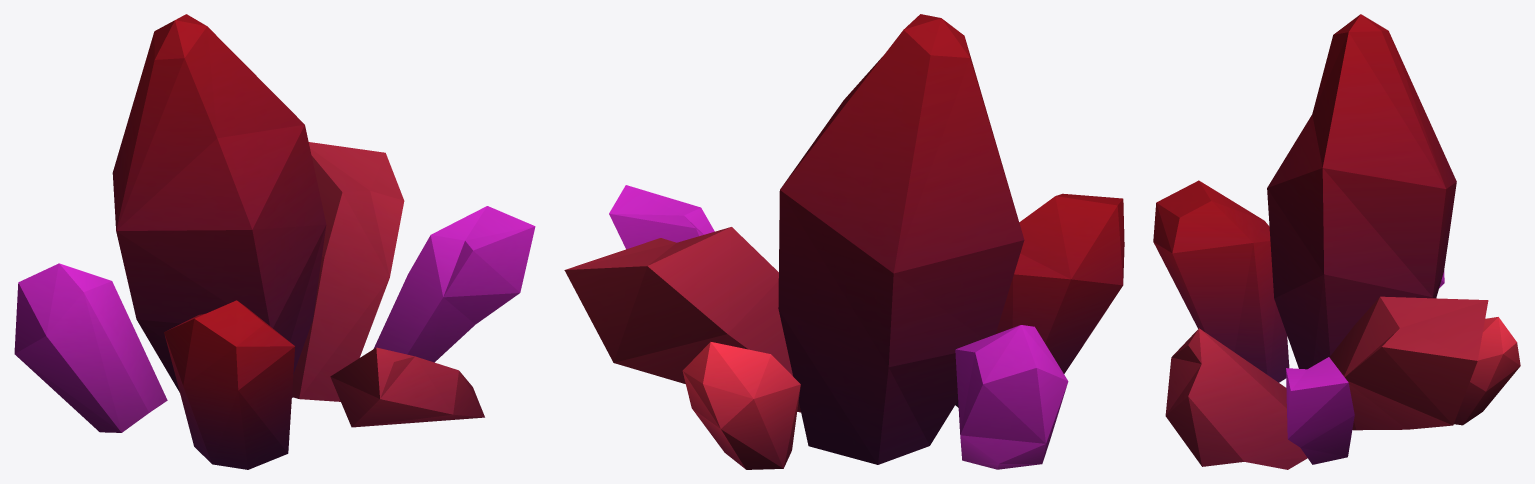
Rendered from ZLP_Crystalk_B_12.FBX.
The picture shows the model from 3 angles, left to right: view 1: azimuth 30°, elevation 25°; view 2: azimuth 150°, elevation 25°; view 3: azimuth 270°, elevation 25°; orthographic projection. The views are drawn at different scales.
Visible parts, largest first — view 1: ZLP_Crystalk_B_12; view 2: ZLP_Crystalk_B_12; view 3: ZLP_Crystalk_B_12.
Boxes of the visible parts, x1,y1,x2,y2 form: ZLP_Crystalk_B_12: (14,14,535,469); ZLP_Crystalk_B_12: (564,14,1124,469); ZLP_Crystalk_B_12: (1153,14,1520,469).
Size of the model in its own units: 151 by 126 by 117.
